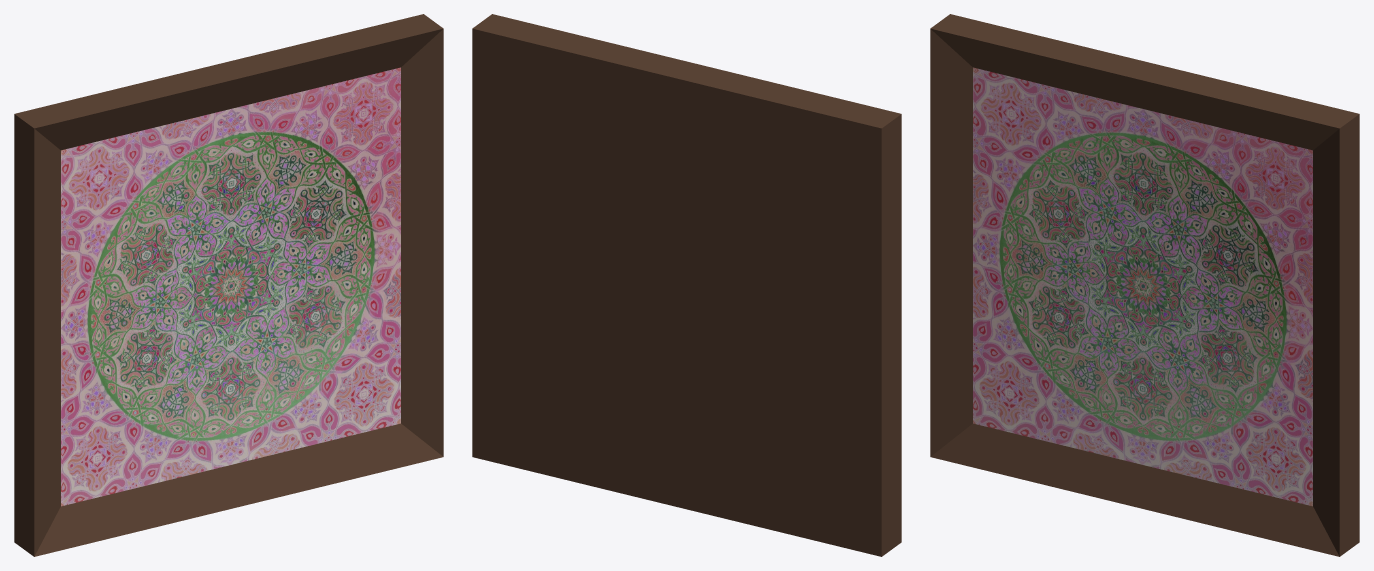
Rendered from peacock-minerva-peacock-mary-pink-a3-walnut-tray-v2.glb.
3 views of the same model, side by side, from view 1: azimuth 30°, elevation 25°; view 2: azimuth 150°, elevation 25°; view 3: azimuth 330°, elevation 25° (orthographic).
Visible parts, largest first — view 1: FramedPrint; view 2: FramedPrint; view 3: FramedPrint.
Boxes of the visible parts, x1,y1,x2,y2 form: FramedPrint: (14,14,443,556); FramedPrint: (472,14,901,556); FramedPrint: (930,14,1359,556).
Bounding box in the file's own units: 0.355 × 0.355 × 0.03.
Materials: 2 (1 with a texture image).
